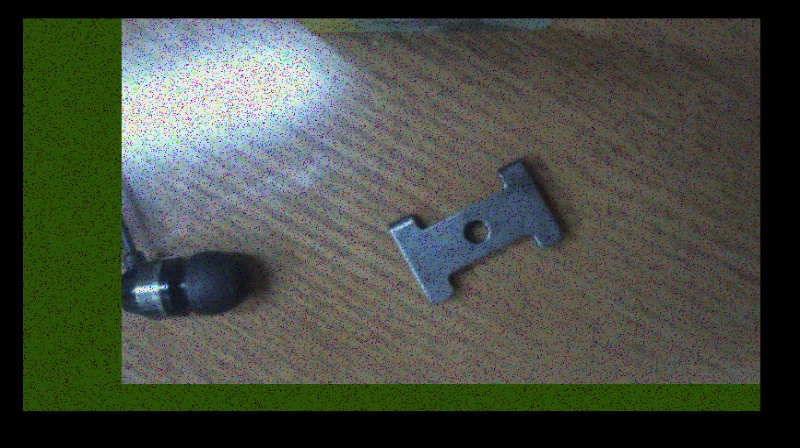O002: (386, 158, 563, 303)
